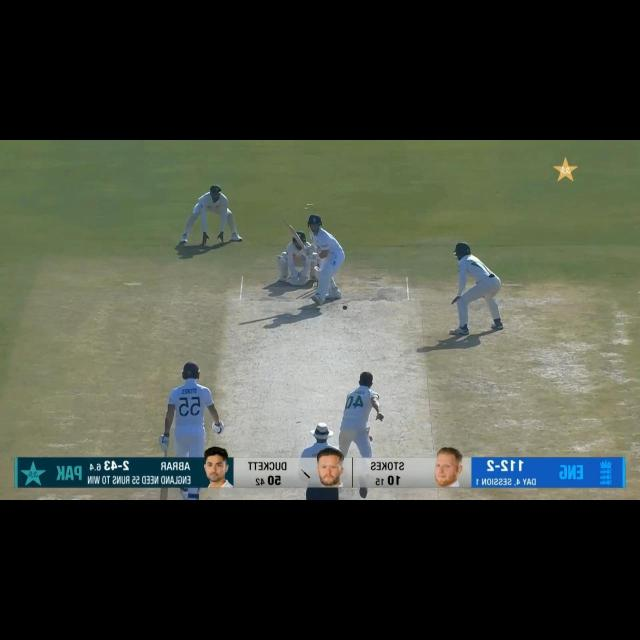bat: (282, 220, 304, 248), (158, 487, 169, 501)
toe: (282, 219, 291, 230), (159, 495, 168, 500)
